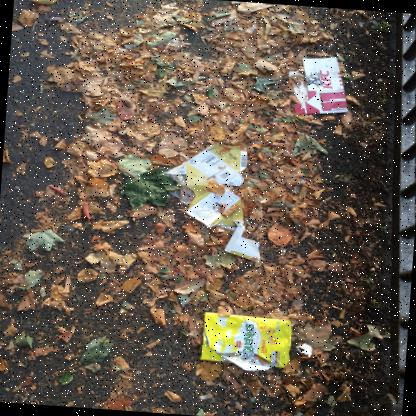Cigarette: (200, 394, 212, 400), (216, 78, 224, 87)
Crisp packet: (200, 312, 291, 371)
Meal carton: (165, 145, 261, 262), (289, 57, 348, 114)
Plastic film: (163, 174, 195, 204)
Unlabeled litter: (296, 343, 312, 357)
